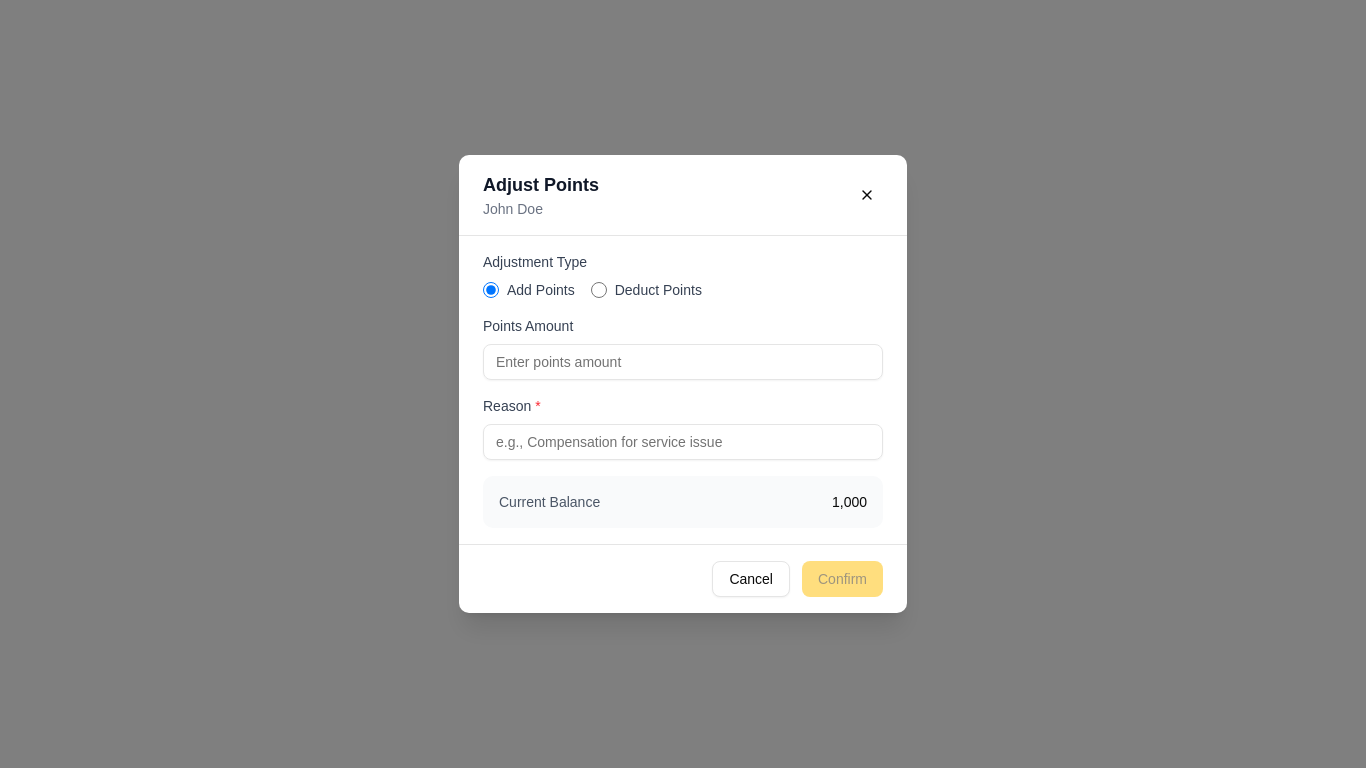
Test: AdjustPointsModal › Adjustment Type Toggle › should switch to deduct mode when Deduct Points is selected
The image size is (1366, 768).
Step 1. Click the radio button labelled "Deduct Points" → click(599, 290), box top-left (591, 282), bottom-right (607, 298)
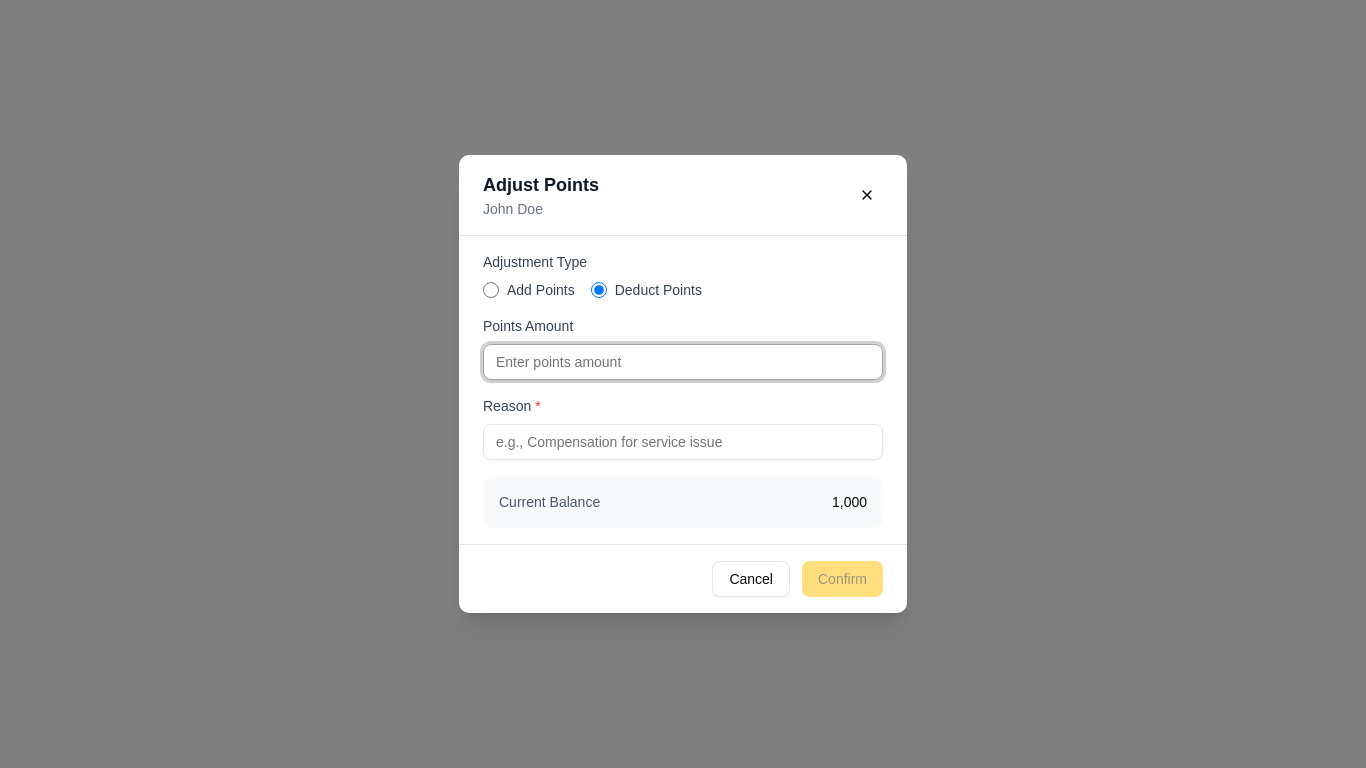
expect the radio button labelled "Deduct Points" is checked: met, box top-left (591, 282), bottom-right (607, 298)
expect the radio button labelled "Add Points" is not checked: met, box top-left (483, 282), bottom-right (499, 298)
